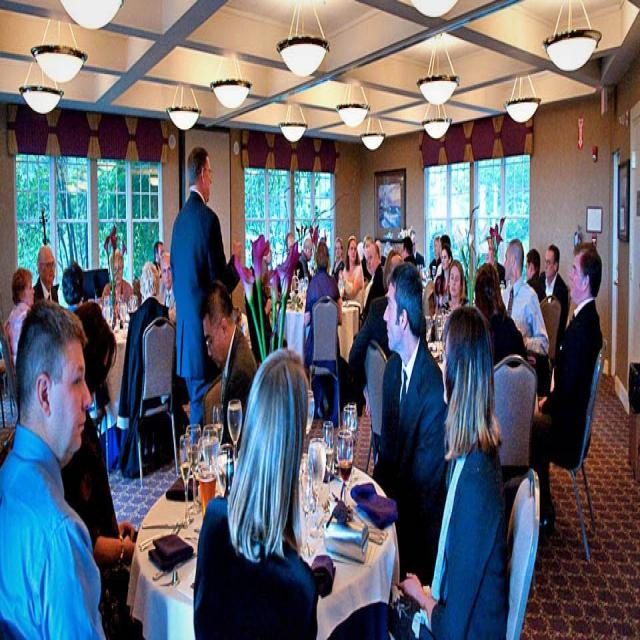body: (384, 301, 508, 640), (193, 342, 320, 638), (1, 298, 108, 640), (60, 297, 145, 640), (371, 259, 445, 617), (528, 239, 603, 536), (170, 142, 243, 445), (115, 257, 174, 481), (196, 276, 259, 464), (302, 237, 343, 424), (383, 219, 467, 307), (472, 263, 528, 371), (500, 238, 550, 358), (534, 240, 570, 398), (261, 225, 331, 280), (3, 264, 36, 376), (352, 240, 385, 344), (98, 247, 134, 313), (338, 233, 366, 316), (32, 243, 61, 307), (153, 238, 175, 314), (525, 245, 544, 303), (480, 233, 505, 266), (360, 233, 374, 290), (330, 235, 345, 286), (51, 259, 62, 304)
